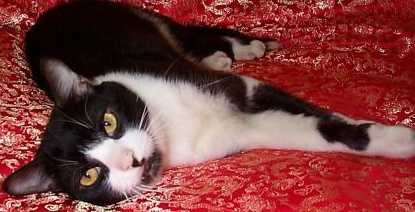Cat: (5, 59, 163, 206)
